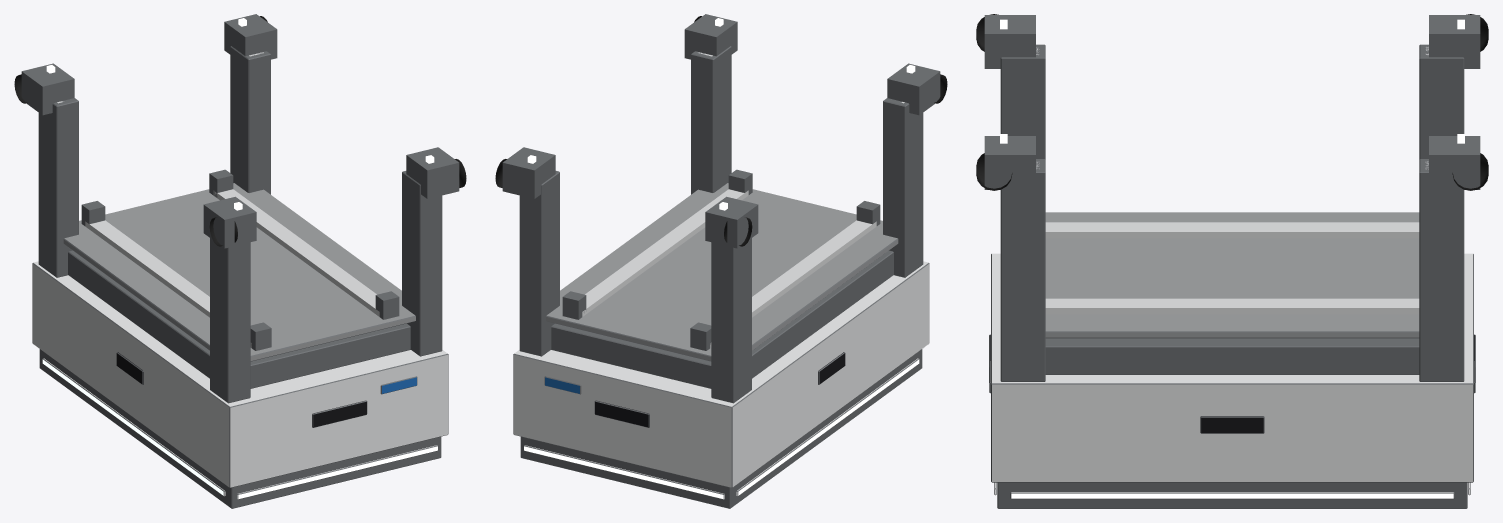
Rendered from haipick_robot.fbx.
3 renders of one model, left to right at view 1: azimuth 30°, elevation 25°; view 2: azimuth 150°, elevation 25°; view 3: azimuth 270°, elevation 25°, orthographic. The views are drawn at different scales.
Parts seen in each view (by area): view 1: HaiClimber_Body, Fork, ArmN, ArmP; view 2: HaiClimber_Body, Fork, ArmP, ArmN; view 3: HaiClimber_Body, Fork, ArmP, ArmN.
Part boxes in pixels (box(x1,y1,x2,y2)): HaiClimber_Body: box(32, 46, 448, 508); Fork: box(81, 169, 399, 350); ArmN: box(203, 147, 466, 248); ArmP: box(14, 14, 277, 115); HaiClimber_Body: box(513, 46, 929, 508); Fork: box(562, 169, 880, 350); ArmP: box(495, 147, 758, 248); ArmN: box(684, 14, 947, 115); HaiClimber_Body: box(989, 44, 1475, 508); Fork: box(1045, 222, 1419, 314); ArmP: box(1425, 14, 1488, 190); ArmN: box(976, 14, 1039, 190).
Bounding box in the file's own units: 0.53 × 0.651 × 0.796.
